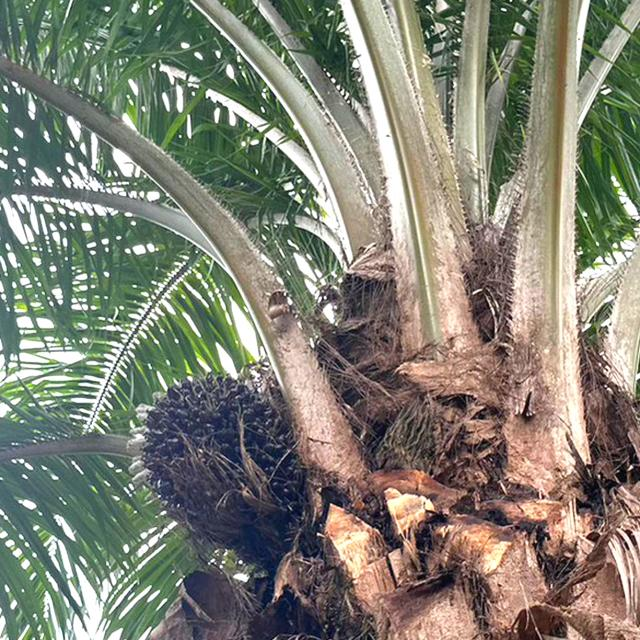unripe: (137, 371, 319, 554)
